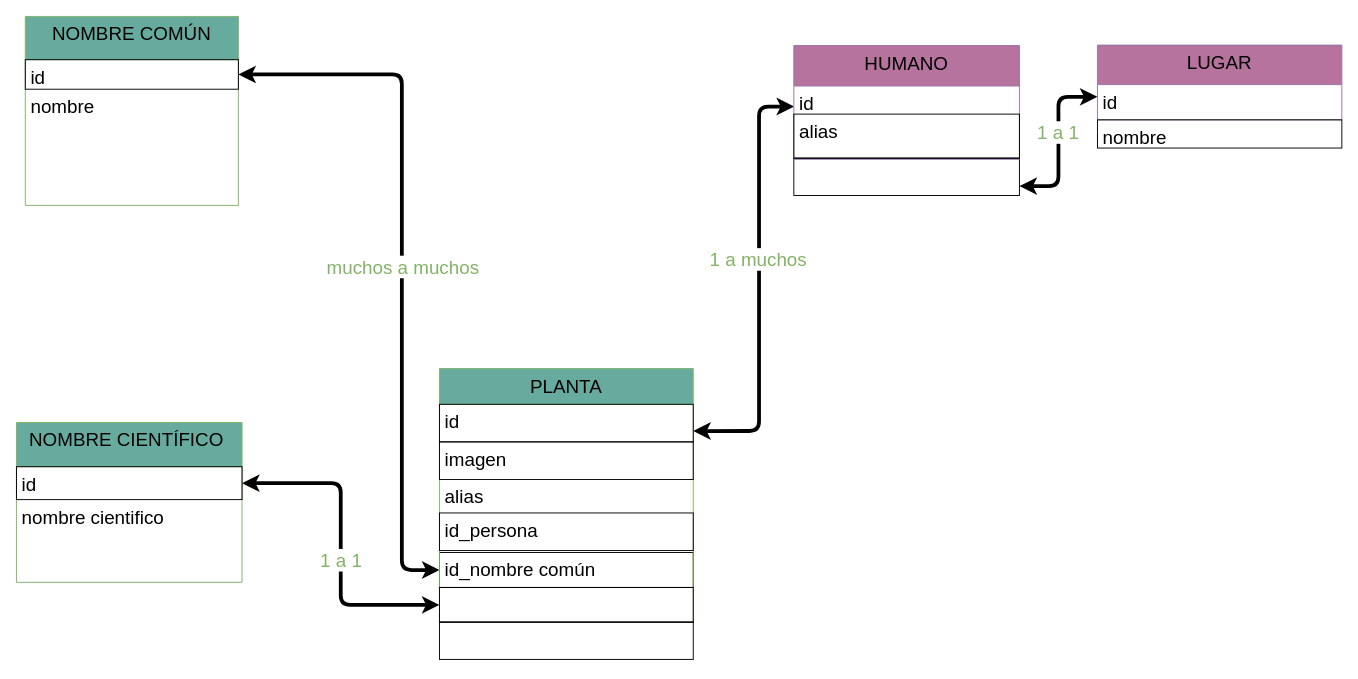
The diagram is 1358 pixels wide and 679 high, and some of its shapes have lost their labels. Here are the shapes that lost their labels. From the top down, the centre of each, then its label:
point 906,176: id_lugares
point 566,604: id_nombre científico
point 566,640: id_lugar
